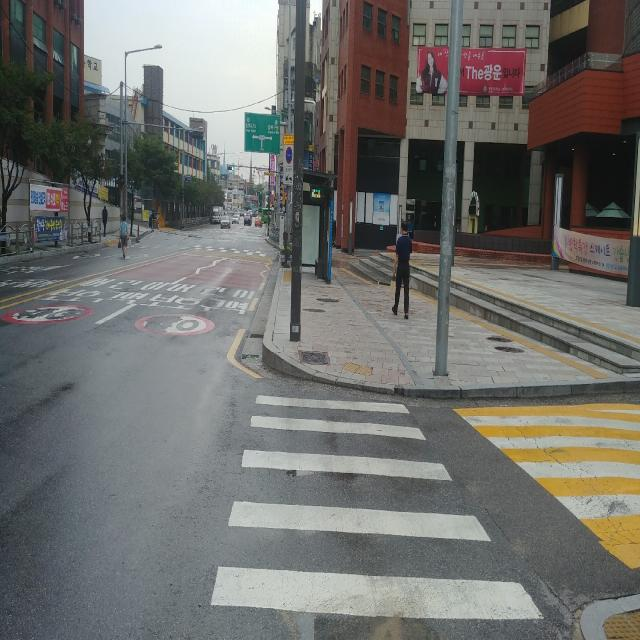횡단보도: (211, 394, 543, 620)
